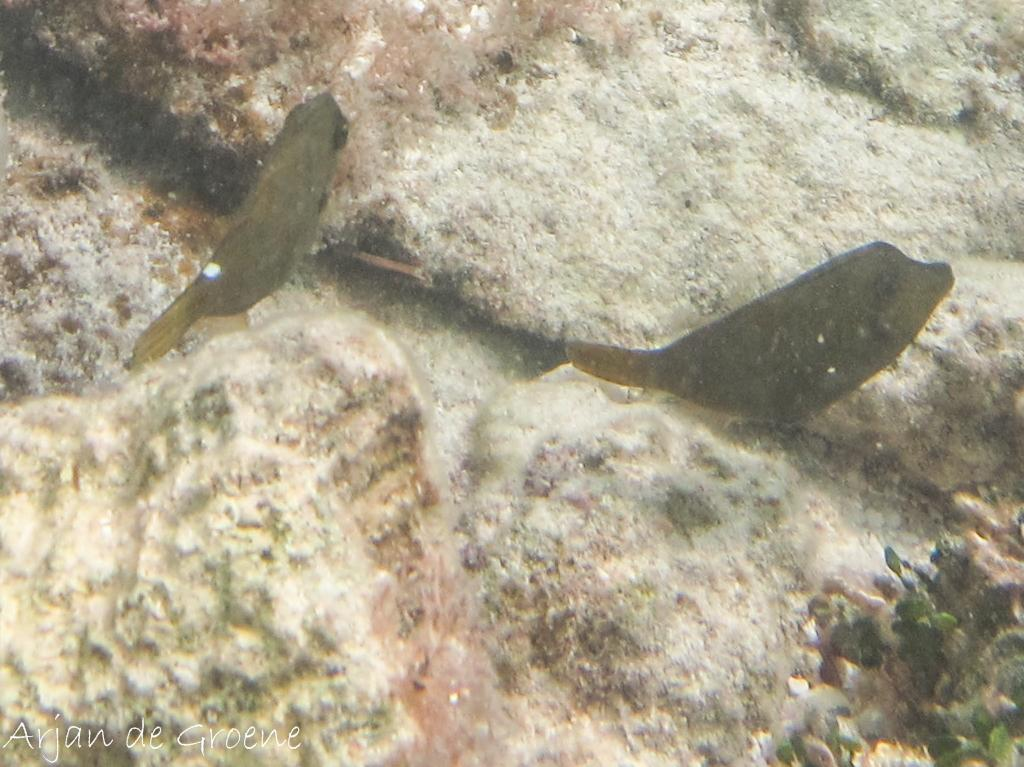Fish: (548, 226, 970, 455), (102, 70, 362, 393)
